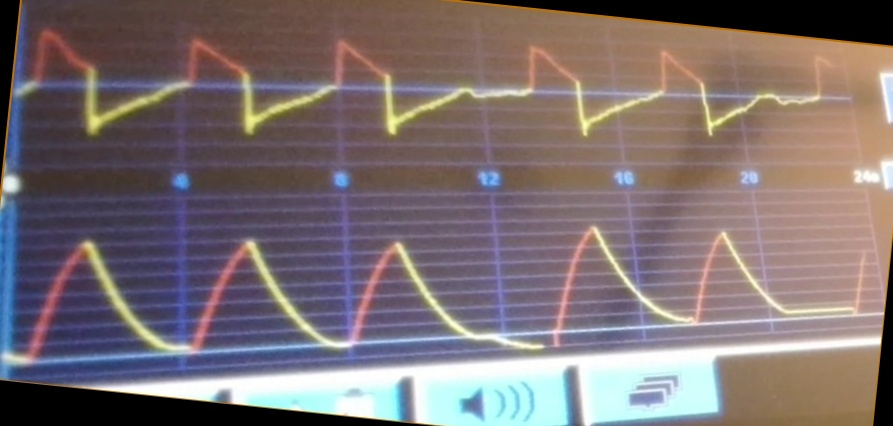Ineffective_effort Flow: (24, 23, 831, 151)
Ineffective_effort Volume: (16, 217, 867, 353)
